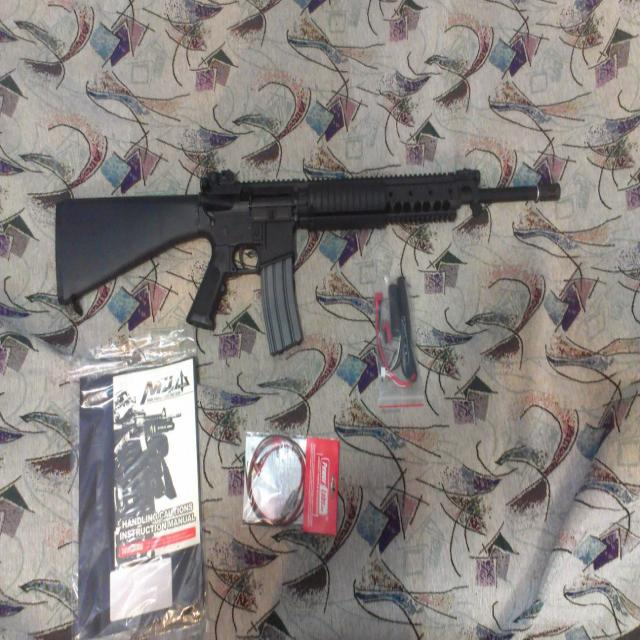rocket: (56, 168, 560, 351)
